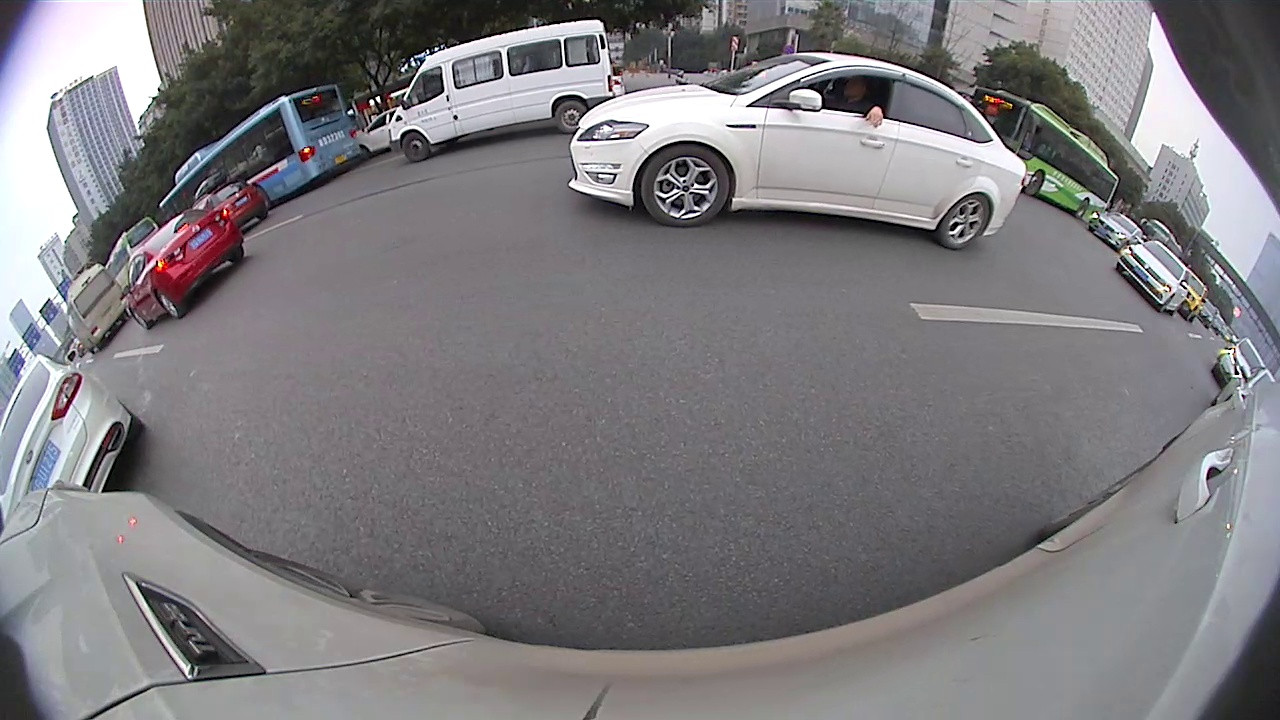bus: (164, 86, 363, 226), (975, 85, 1116, 218), (64, 268, 128, 350)
car: (578, 53, 1018, 248), (392, 20, 622, 163), (1, 351, 147, 538), (125, 204, 245, 327), (1118, 242, 1186, 313), (201, 183, 273, 226), (356, 109, 420, 155)
front: (639, 140, 732, 231), (401, 130, 433, 164), (1025, 168, 1046, 198)
rear: (937, 191, 993, 251), (554, 99, 588, 135), (155, 291, 182, 320), (1076, 197, 1088, 223)
